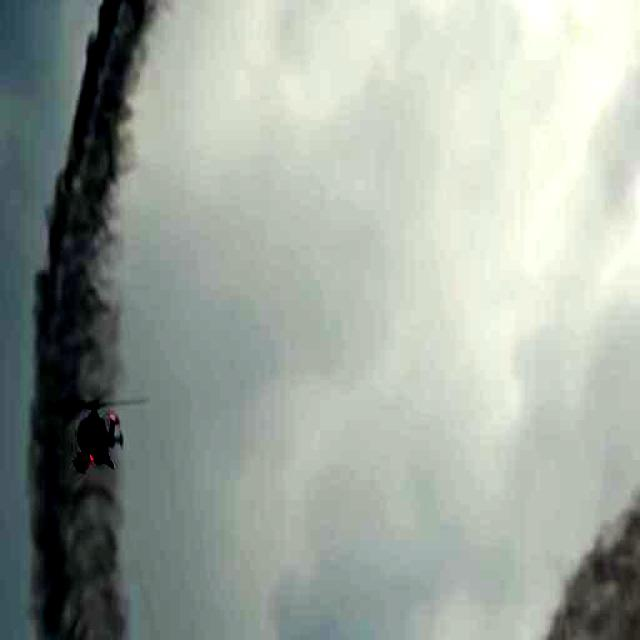drone: (59, 392, 136, 481)
